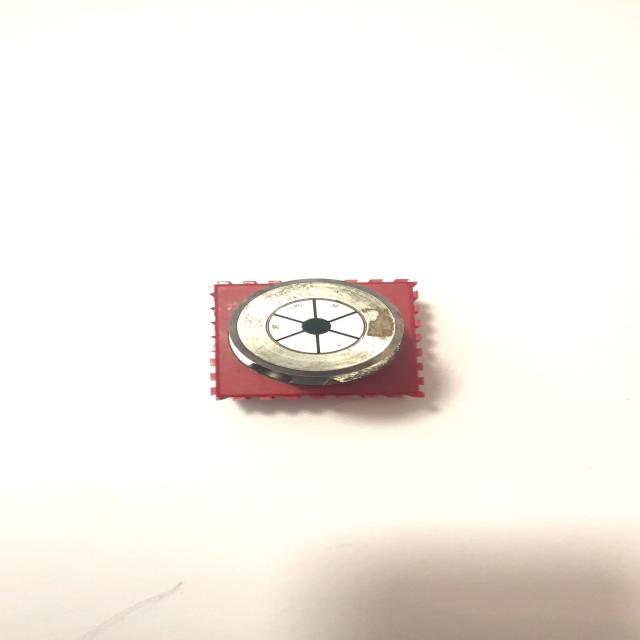Filled_Slot: (227, 279, 403, 386)
